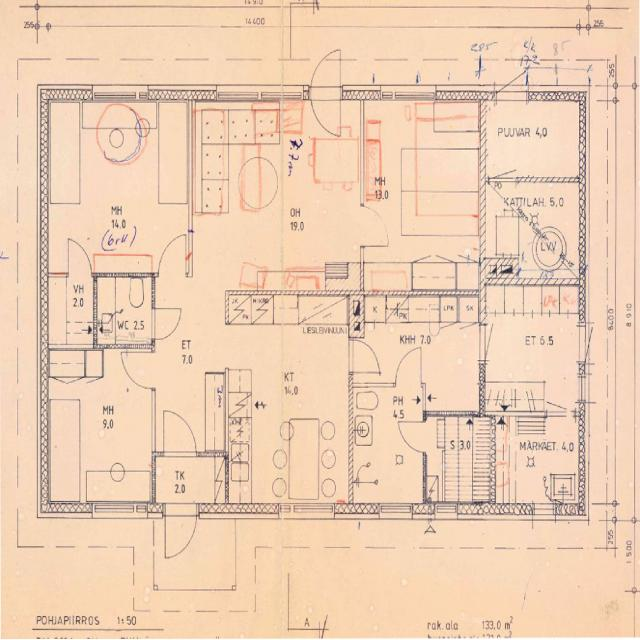door: (165, 502, 196, 560), (496, 45, 527, 100), (310, 46, 340, 100), (310, 86, 340, 140), (164, 409, 196, 457), (579, 326, 617, 362), (361, 206, 394, 246), (546, 374, 575, 416), (158, 235, 186, 277), (479, 325, 512, 360), (489, 140, 516, 182), (125, 352, 155, 388), (396, 350, 420, 388), (349, 340, 377, 372), (399, 422, 426, 453), (68, 242, 92, 276), (152, 309, 178, 339)
